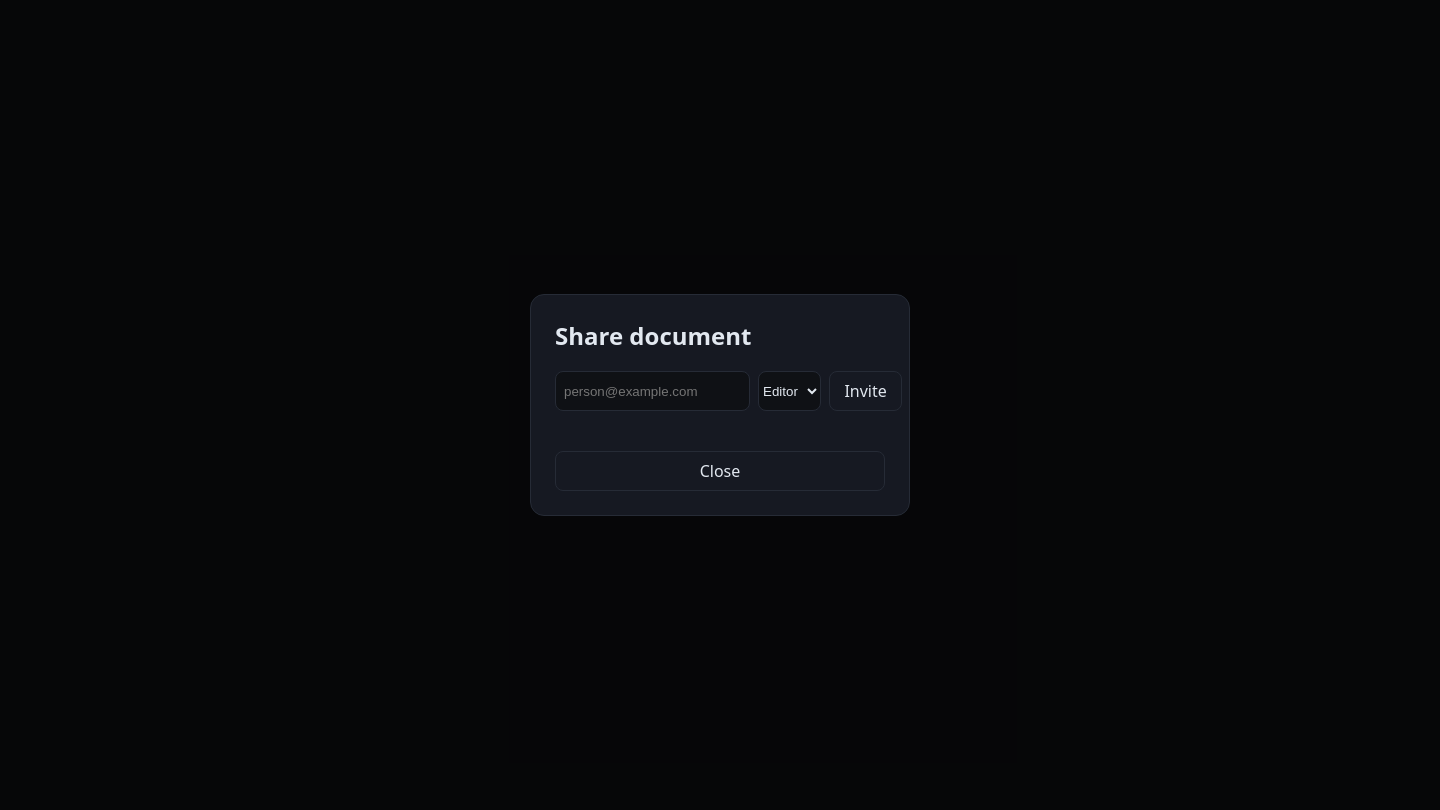
ShareModal › surfaces a server error
Step 1. Type "ghost@example.com" into the field named "Collaborator email" → point(652, 392), box [555,372,750,412]
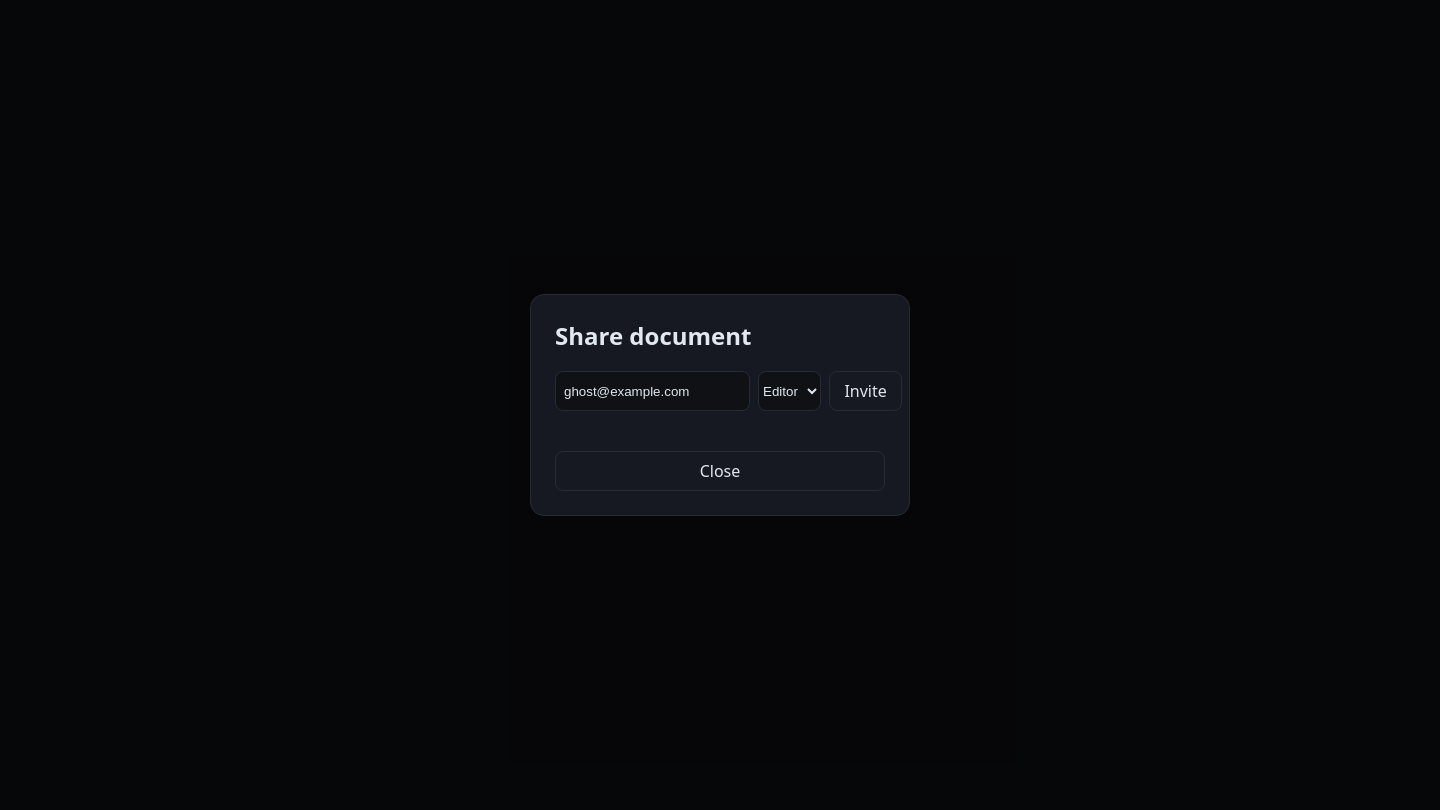
Step 2. Click the button "Invite" → point(866, 392), box [829,372,902,412]
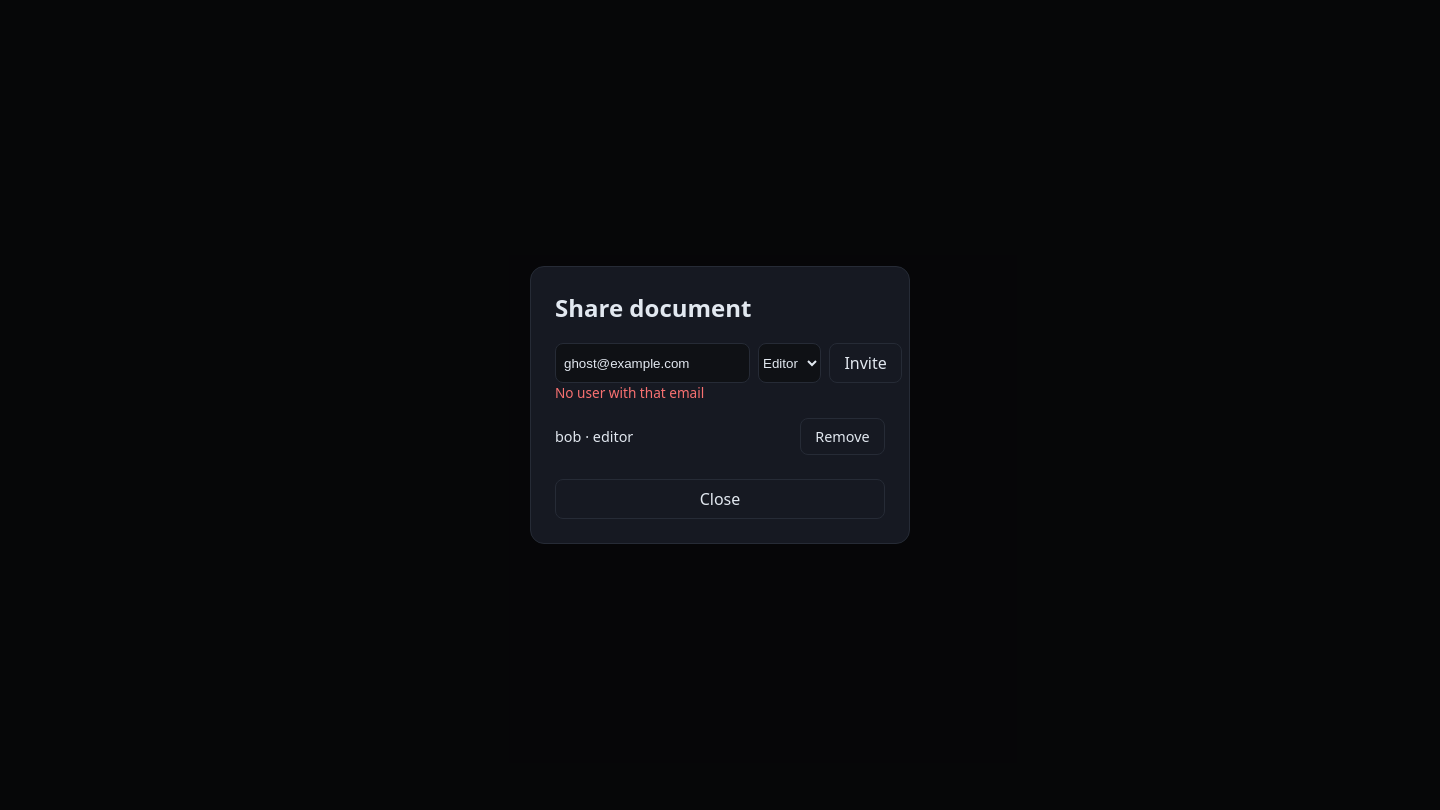
Expected: the message reads "No user with that email", [555,384,704,402]
